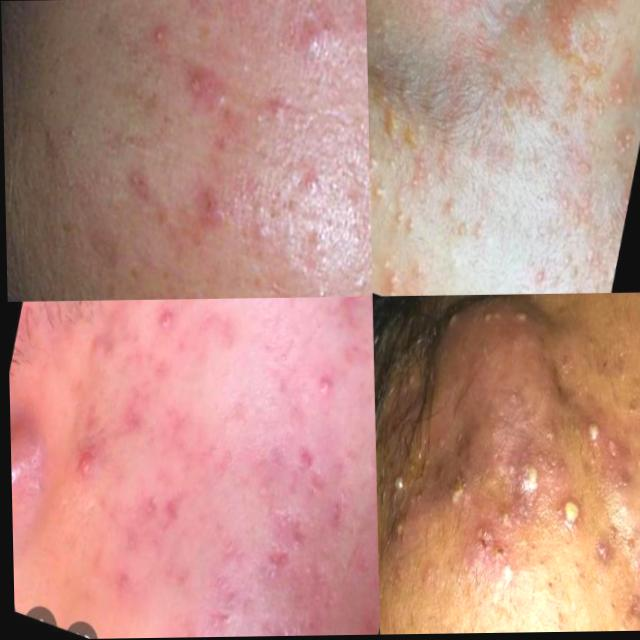8: (173, 161, 238, 244), (57, 434, 108, 498), (279, 511, 320, 562), (284, 14, 323, 60)
9: (116, 0, 192, 70), (563, 395, 606, 462), (304, 357, 346, 414), (548, 485, 585, 540), (382, 499, 416, 554), (604, 120, 640, 167), (148, 300, 179, 338), (392, 465, 403, 496)
blackheads: (406, 294, 568, 497), (160, 52, 236, 129), (134, 475, 192, 541), (240, 531, 298, 596), (280, 440, 321, 489), (108, 399, 149, 446)
pustules: (512, 444, 543, 505)
